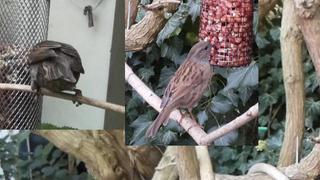dunnock: (145, 40, 218, 138)
starling: (29, 40, 85, 108)
